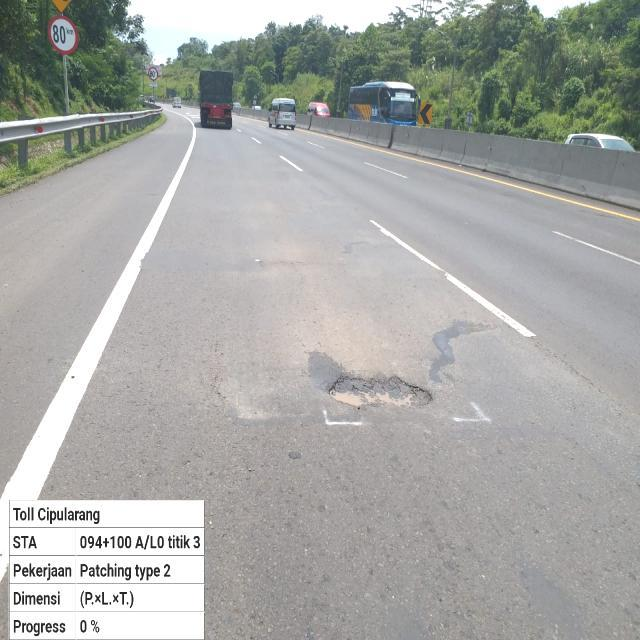Buraco: (324, 373, 436, 412)
